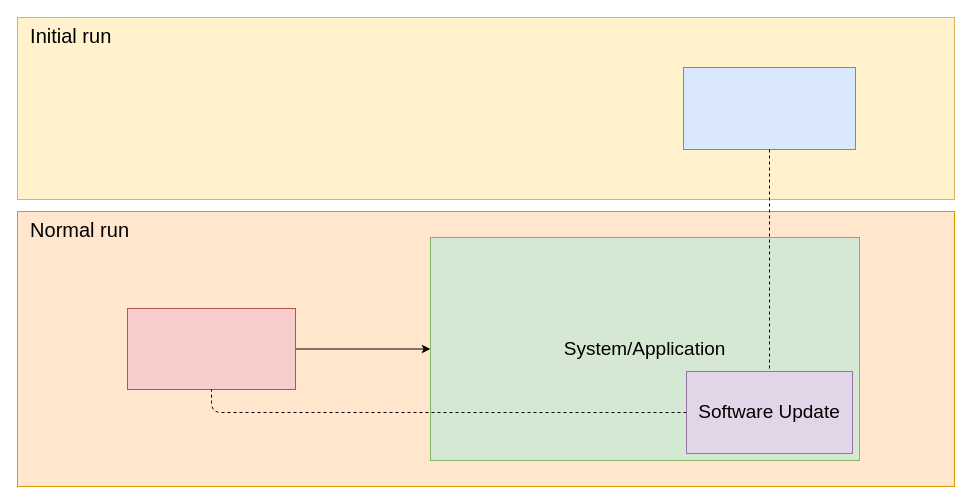
This 972x504 diagram has some shape labels left out. The shapes that lost their labels are listed below. From the top down, each one's box as (x1, y1, x2, y2) in pixels, then its label:
(682, 66, 856, 150): Flash Writer
(126, 308, 296, 390): Bootloader
